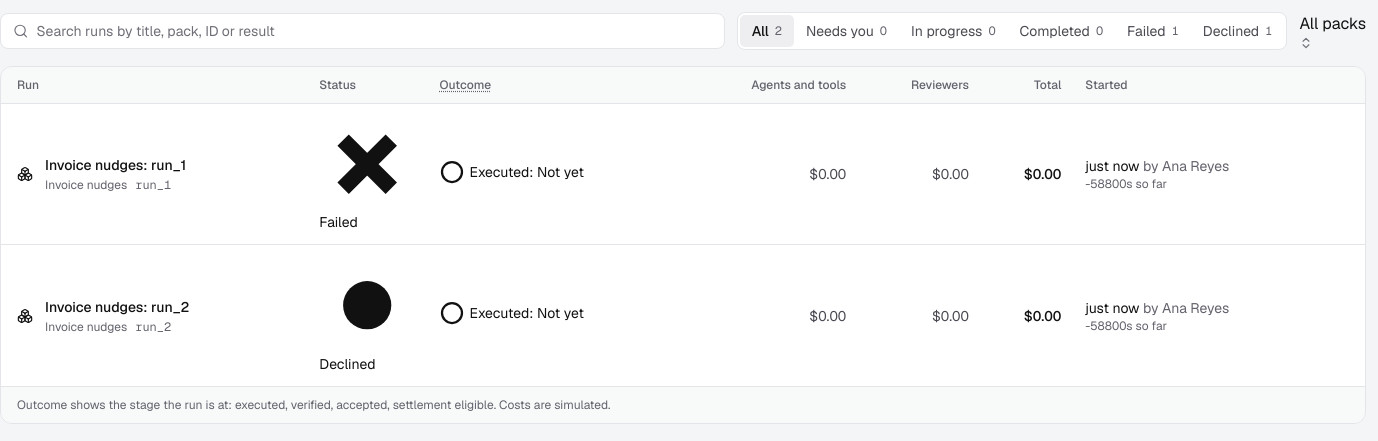
RunsBrowser › keeps declined runs out of Failed and lists them under Declined
Click the button "Failed 1" at (1153, 31), box [1115, 15, 1191, 47]
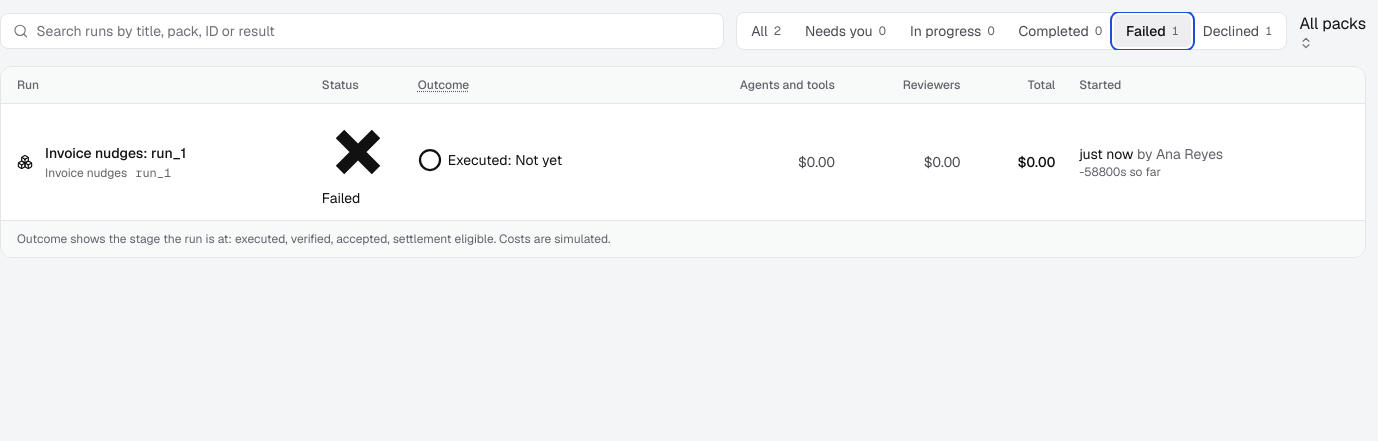
Check: the text "Invoice nudges: run_1" is shown, box [45, 144, 186, 162]
Check: the text "Invoice nudges: run_2" is gone
Click the button "Declined 1" at (1238, 31), box [1191, 15, 1284, 47]
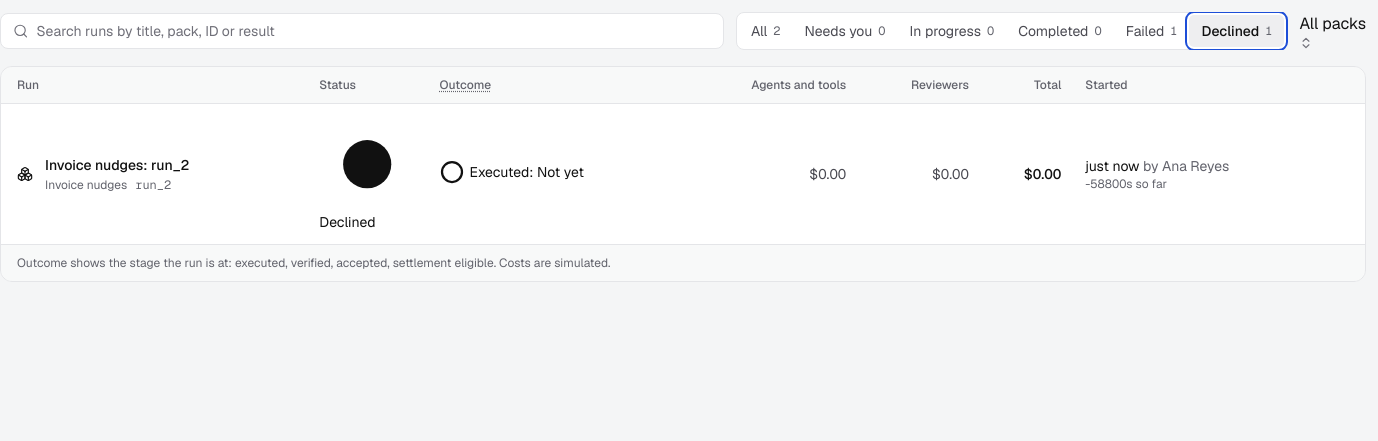
Check: the text "Invoice nudges: run_2" is shown, box [45, 156, 189, 174]
Check: the text "Invoice nudges: run_1" is gone
